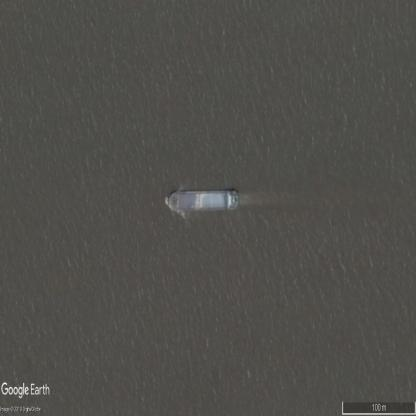ship: (166, 187, 241, 212)
